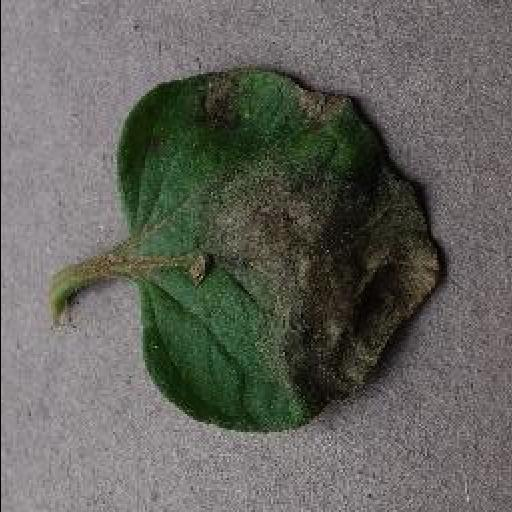disease_tomato: (111, 67, 453, 433)
